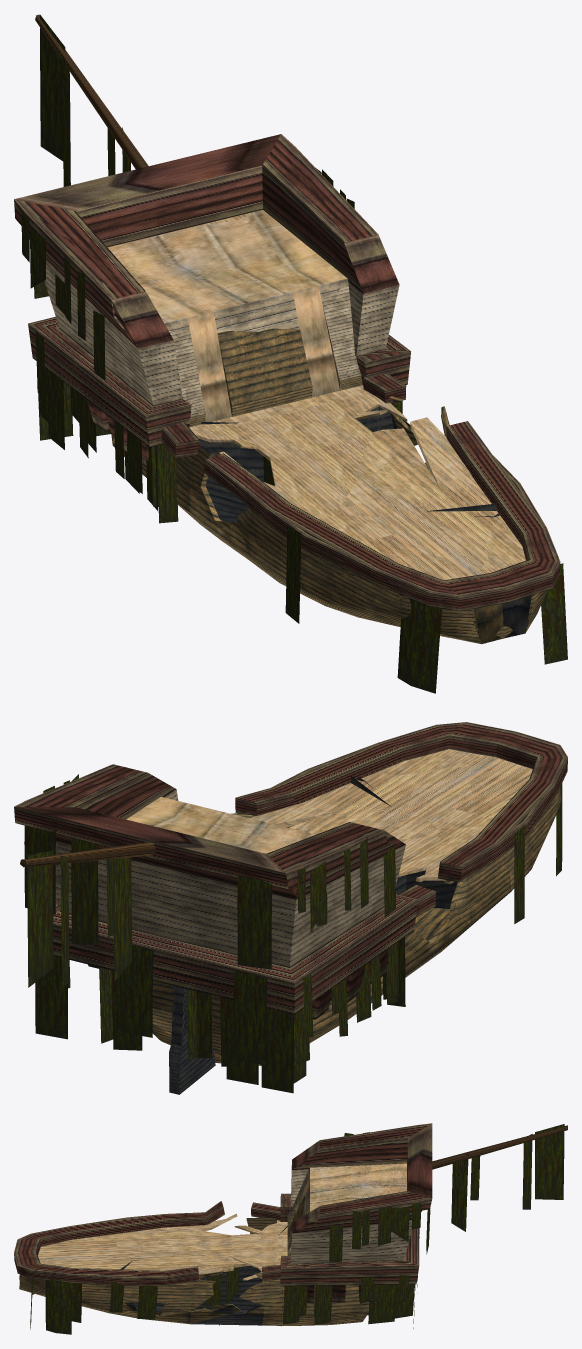
The model's file is pir_m_shp_skl_frigate.fbx.
3 views of the same model, one above another, from view 1: azimuth 30°, elevation 25°; view 2: azimuth 150°, elevation 25°; view 3: azimuth 270°, elevation 25° (orthographic). The views are drawn at different scales.
Visible parts, largest first — view 1: deck_0.002, polySurface51.001, deck_0.001, hullB_5b3, deck_vertical2.001, stripeB.002, polySurface37.002, rail_High_0.001, hullB_5b, polySurface47, rail_High_3.002, moss_28 (+26 smaller); view 2: deck_0.002, polySurface37, polySurface51.001, stripeB, stripeB.002, rail_High_3.002, polySurface48, hullB_5b3, moss63, hullB_5b.001, hullB_5b, moss77 (+43 smaller); view 3: deck_0.002, polySurface51.001, deck_0.001, hullB_5b3, polySurface37.002, hullB_5b, stripeB.002, stripeB, moss_7.001, polySurface47, rail_High_0.002, rail_High_3.001 (+35 smaller).
Boxes of the visible parts, x1=… form: deck_0.002: x1=107, y1=210, x2=510, y2=580; polySurface51.001: x1=14, y1=134, x2=399, y2=348; deck_0.001: x1=188, y1=211, x2=525, y2=573; hullB_5b3: x1=111, y1=396, x2=547, y2=643; deck_vertical2.001: x1=217, y1=328, x2=312, y2=416; stripeB.002: x1=28, y1=316, x2=410, y2=447; polySurface37.002: x1=44, y1=268, x2=399, y2=405; rail_High_0.001: x1=267, y1=509, x2=509, y2=611; hullB_5b: x1=190, y1=399, x2=533, y2=642; polySurface47: x1=262, y1=134, x2=378, y2=242; rail_High_3.002: x1=469, y1=454, x2=556, y2=588; moss_28: x1=397, y1=598, x2=442, y2=693; deck_0.002: x1=126, y1=756, x2=532, y2=875; polySurface37: x1=55, y1=841, x2=405, y2=967; polySurface51.001: x1=14, y1=773, x2=405, y2=899; stripeB: x1=53, y1=899, x2=413, y2=1014; stripeB.002: x1=53, y1=894, x2=417, y2=1013; rail_High_3.002: x1=270, y1=723, x2=515, y2=805; polySurface48: x1=14, y1=807, x2=297, y2=898; hullB_5b3: x1=152, y1=788, x2=561, y2=1032; moss63: x1=237, y1=875, x2=272, y2=969; hullB_5b.001: x1=152, y1=893, x2=509, y2=1065; hullB_5b: x1=231, y1=788, x2=561, y2=970; moss77: x1=233, y1=971, x2=267, y2=1065; deck_0.002: x1=38, y1=1163, x2=406, y2=1271; polySurface51.001: x1=292, y1=1123, x2=432, y2=1233; deck_0.001: x1=38, y1=1213, x2=277, y2=1278; hullB_5b3: x1=19, y1=1219, x2=369, y2=1316; polySurface37.002: x1=291, y1=1165, x2=411, y2=1264; hullB_5b: x1=19, y1=1218, x2=265, y2=1323; stripeB.002: x1=280, y1=1193, x2=419, y2=1285; stripeB: x1=280, y1=1193, x2=419, y2=1286; moss_7.001: x1=535, y1=1124, x2=564, y2=1199; polySurface47: x1=293, y1=1191, x2=431, y2=1233; rail_High_0.002: x1=15, y1=1214, x2=164, y2=1255; rail_High_3.001: x1=14, y1=1253, x2=164, y2=1286.
Size of the model in its own units: 9001 by 10371 by 26424.
Materials: 2 (2 with a texture image).
